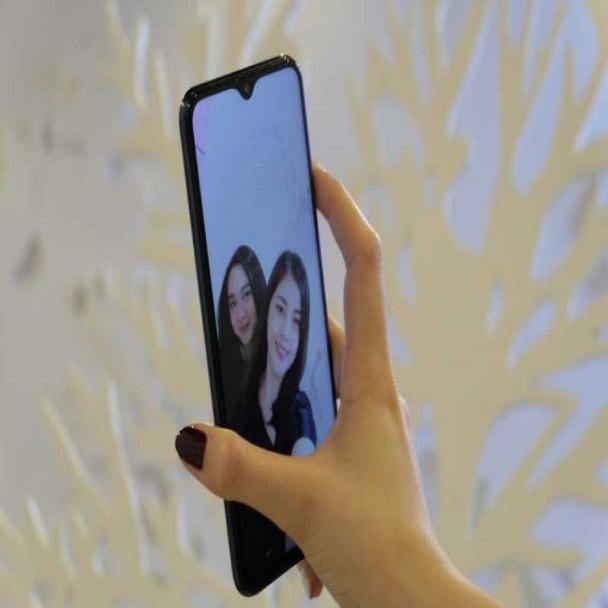Handphone: (177, 47, 357, 601)
